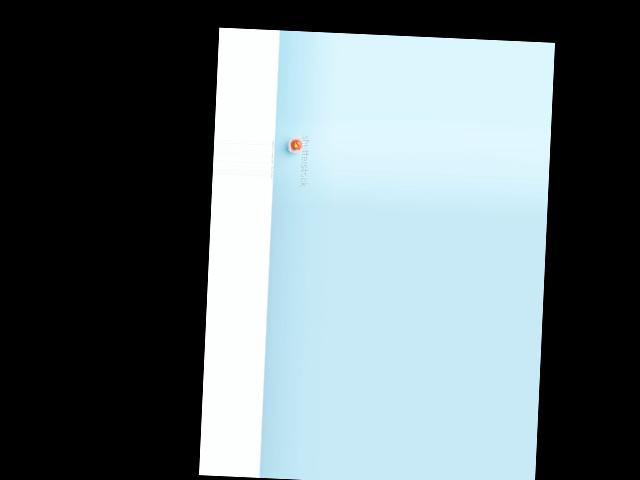tomato: (290, 139, 301, 151)
